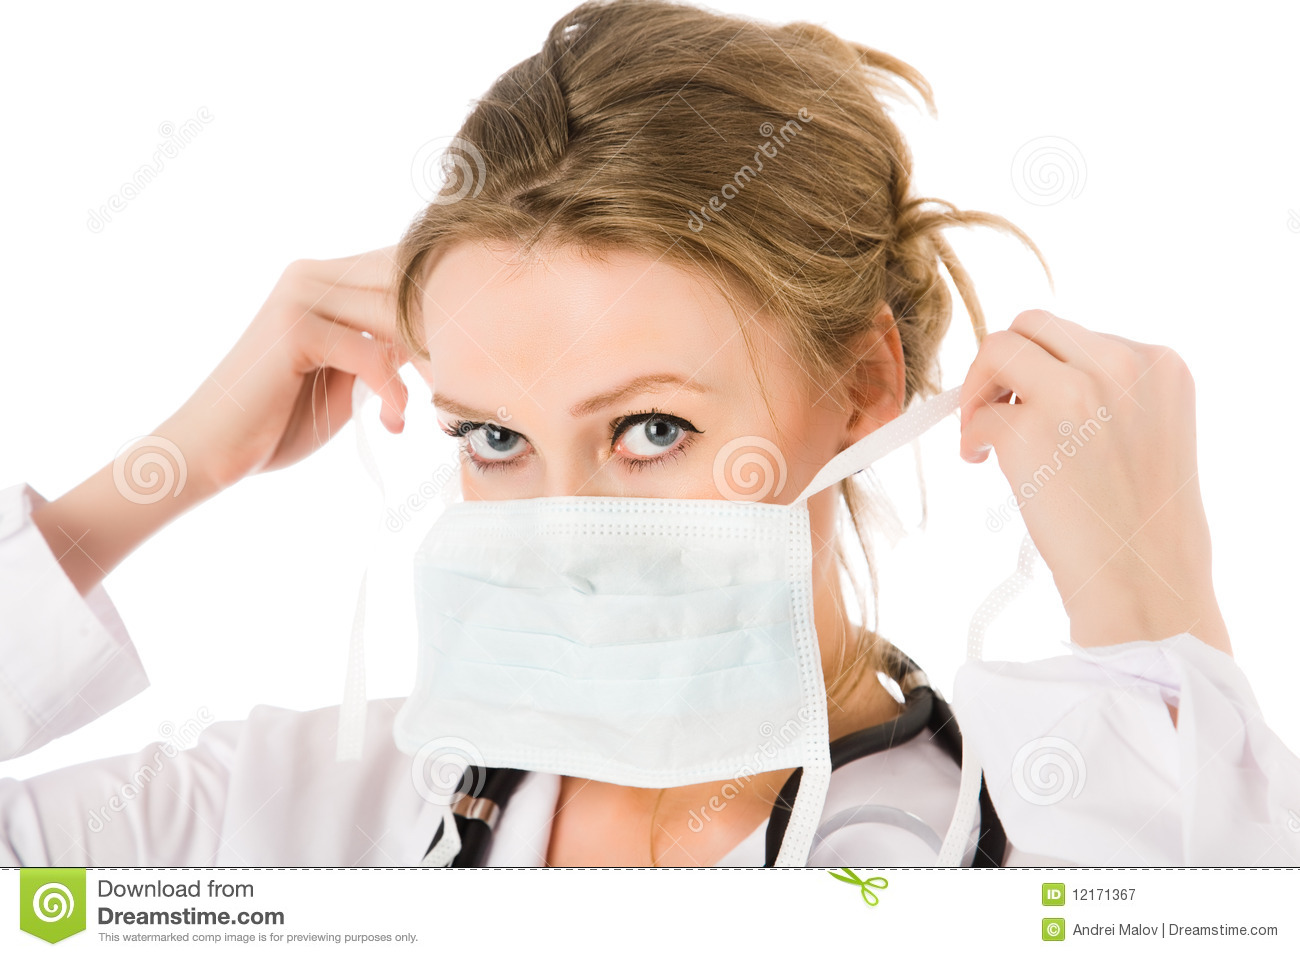mask: (392, 486, 873, 797)
